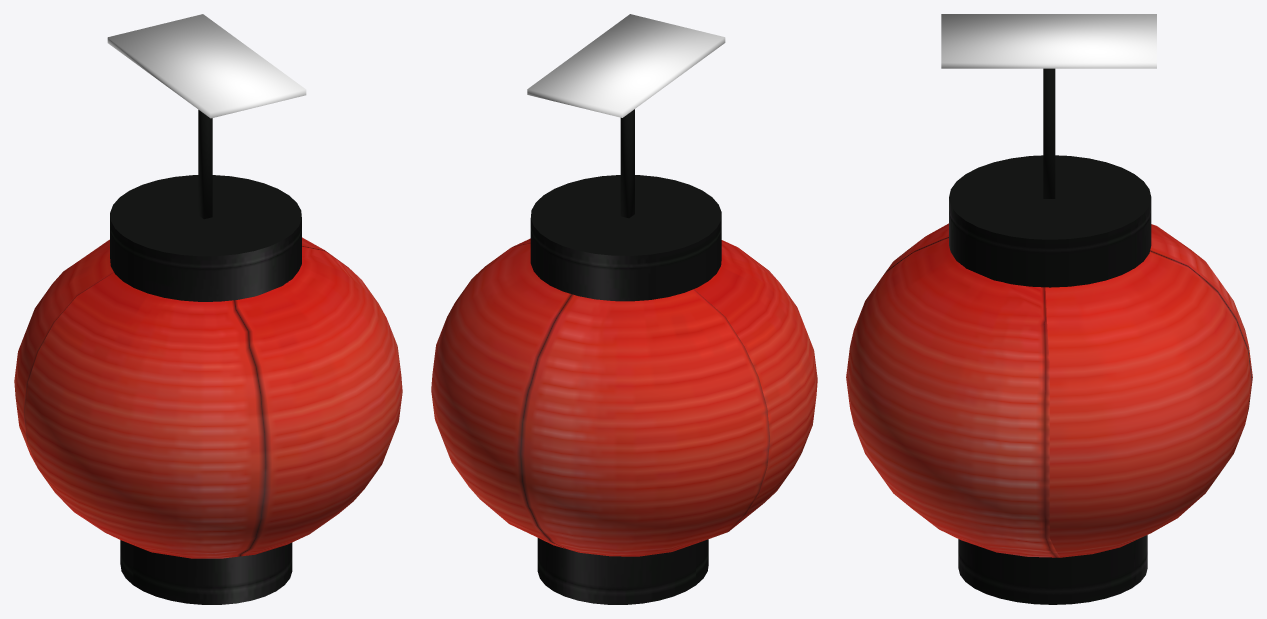
Rendered from Lantern1.a.fbx.
The picture shows the model from 3 angles, left to right: view 1: azimuth 30°, elevation 25°; view 2: azimuth 150°, elevation 25°; view 3: azimuth 270°, elevation 25°; orthographic projection. The views are drawn at different scales.
Visible parts, largest first — view 1: Group 0; view 2: Group 0; view 3: Group 0.
Boxes of the visible parts, x1,y1,x2,y2 form: Group 0: (14, 14, 402, 604); Group 0: (431, 14, 817, 604); Group 0: (846, 14, 1252, 604).
Size of the model in its own units: 49.4 by 70.83 by 49.4.
1 material, 1 textured.
